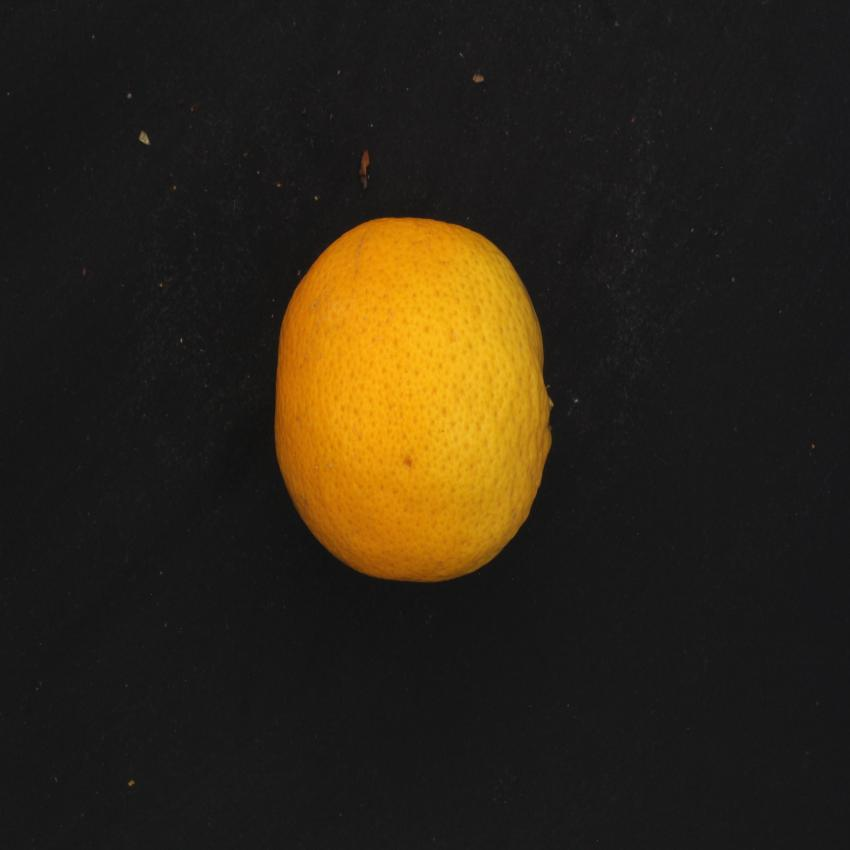Buen estado: (262, 201, 565, 598)
